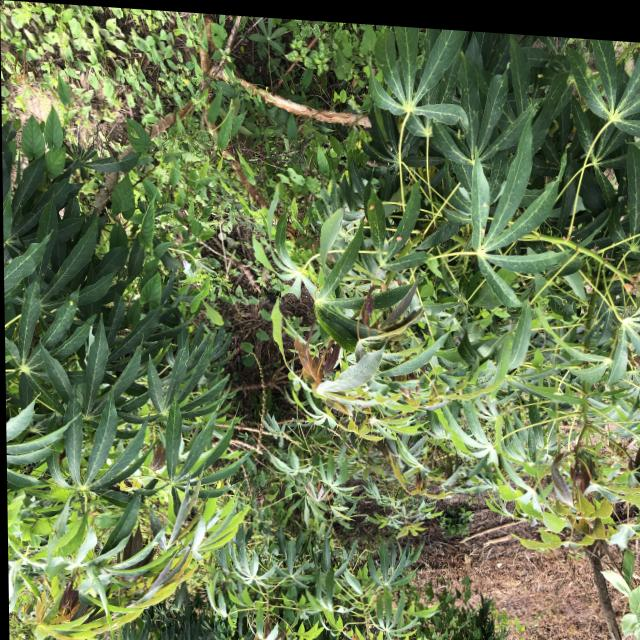Mosca: (470, 189, 496, 217), (183, 315, 203, 335), (474, 221, 490, 244), (61, 294, 75, 313)
